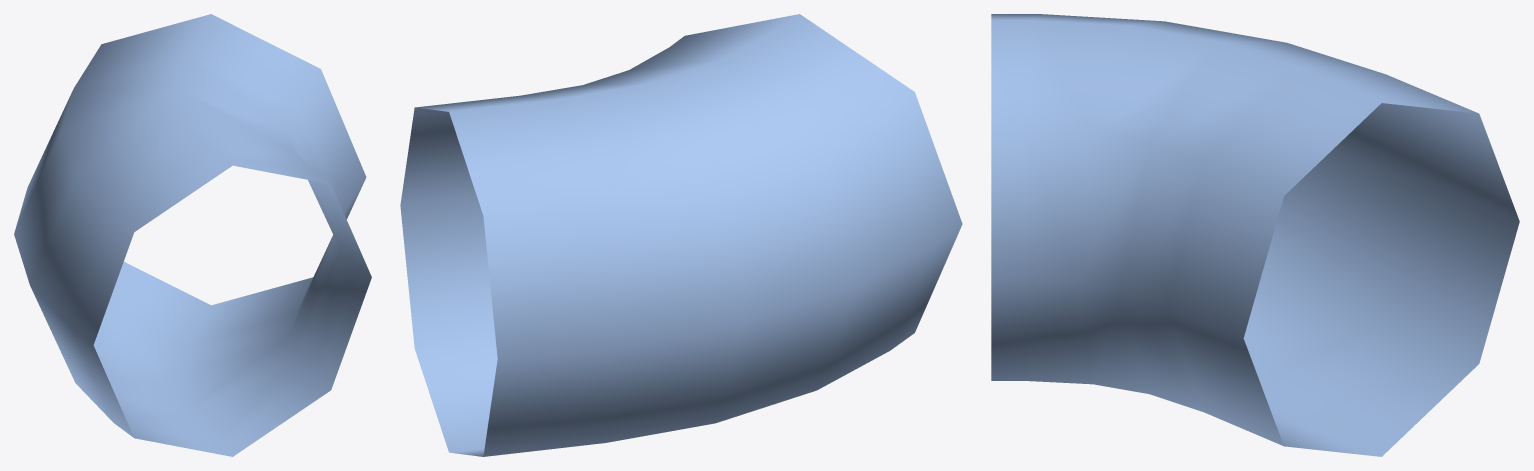
Rendered from PipeSmall_BentDeg45_01.fbx.
The picture shows the model from 3 angles, left to right: view 1: azimuth 30°, elevation 25°; view 2: azimuth 150°, elevation 25°; view 3: azimuth 270°, elevation 25°; orthographic projection. The views are drawn at different scales.
Parts seen in each view (by area): view 1: PipeSmall_BentDeg45_01.001; view 2: PipeSmall_BentDeg45_01.001; view 3: PipeSmall_BentDeg45_01.001.
Boxes of the visible parts, x1,y1,x2,y2 form: PipeSmall_BentDeg45_01.001: [14, 14, 371, 456]; PipeSmall_BentDeg45_01.001: [400, 14, 962, 456]; PipeSmall_BentDeg45_01.001: [991, 14, 1519, 456].
Bounding box in the file's own units: 0.1354 × 0.1 × 0.1354.
